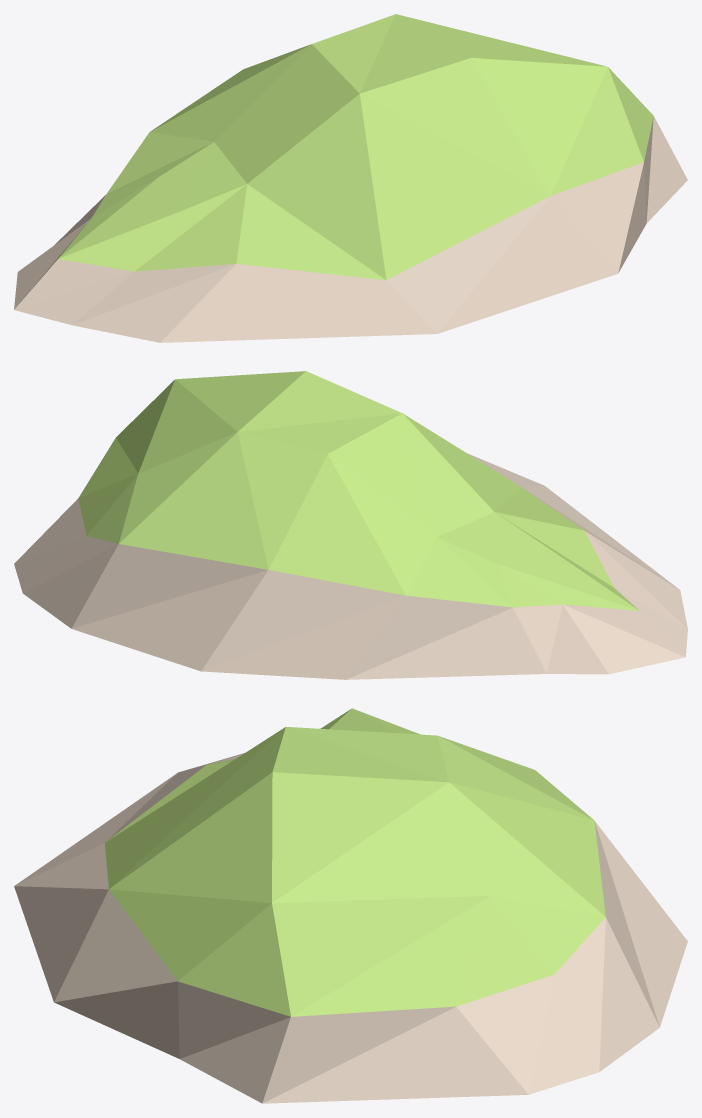
Rendered from Small_hill_01a.fbx.
The picture shows the model from 3 angles, top to bottom: view 1: azimuth 30°, elevation 25°; view 2: azimuth 150°, elevation 25°; view 3: azimuth 270°, elevation 25°; orthographic projection. The views are drawn at different scales.
Visible parts, largest first — view 1: Small_hill_01; view 2: Small_hill_01; view 3: Small_hill_01.
Part boxes in pixels (<box>): Small_hill_01: <box>14,14,687,342</box>; Small_hill_01: <box>14,371,687,679</box>; Small_hill_01: <box>14,708,687,1103</box>.
Size of the model in its own units: 13.87 by 3.55 by 10.51.
